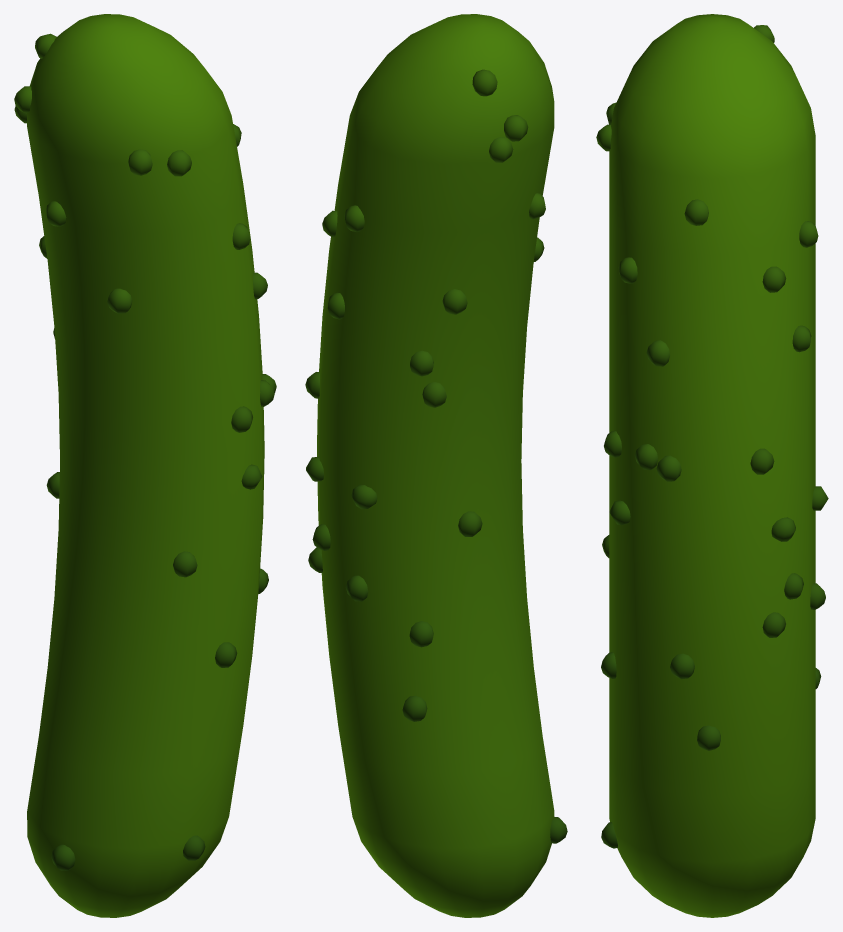
File: Pickle.fbx
3 renders of one model, left to right at view 1: azimuth 30°, elevation 25°; view 2: azimuth 150°, elevation 25°; view 3: azimuth 270°, elevation 25°, orthographic.
Visible parts, largest first — view 1: Pickle; view 2: Pickle; view 3: Pickle.
Part boxes in pixels (box(x1,y1,x2,y2)): Pickle: box(14, 14, 276, 917); Pickle: box(305, 14, 567, 917); Pickle: box(596, 14, 828, 917).
Bounding box in the file's own units: 36.19 × 141 × 33.48.
